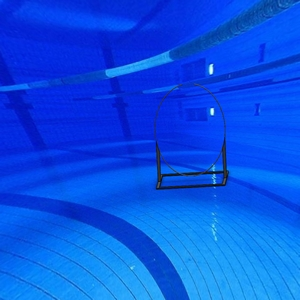circle: (153, 81, 231, 191)
